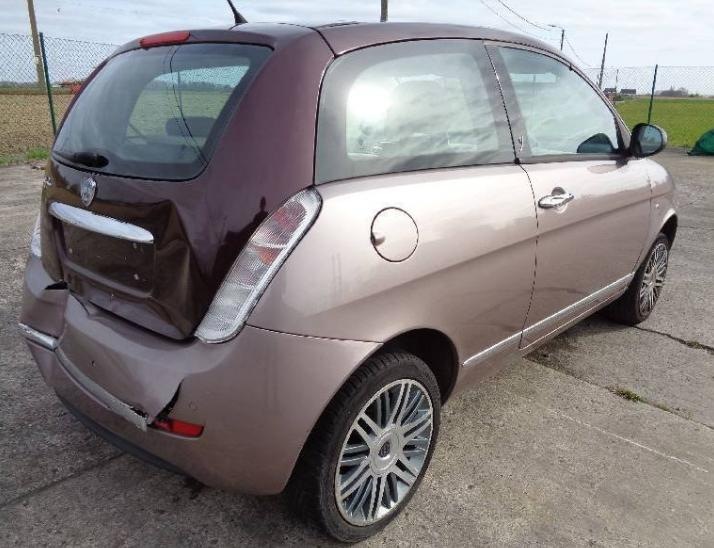Back-bumper: (19, 252, 383, 496)
Back-wheel: (281, 345, 441, 544)
Back-window: (313, 38, 516, 187)
Back-windshield: (51, 42, 275, 182)
Fender: (632, 158, 678, 272)
Front-door: (481, 39, 651, 349)
Front-wheel: (603, 232, 671, 325)
Front-window: (498, 47, 625, 155)
Mirror: (611, 122, 668, 161)
Quarter-panel: (245, 163, 538, 365)
Rocker-panel: (445, 286, 629, 402)
Roof: (273, 22, 572, 63)
Tail-light: (191, 187, 323, 344), (29, 210, 42, 259)
Trunk: (41, 22, 335, 342)
